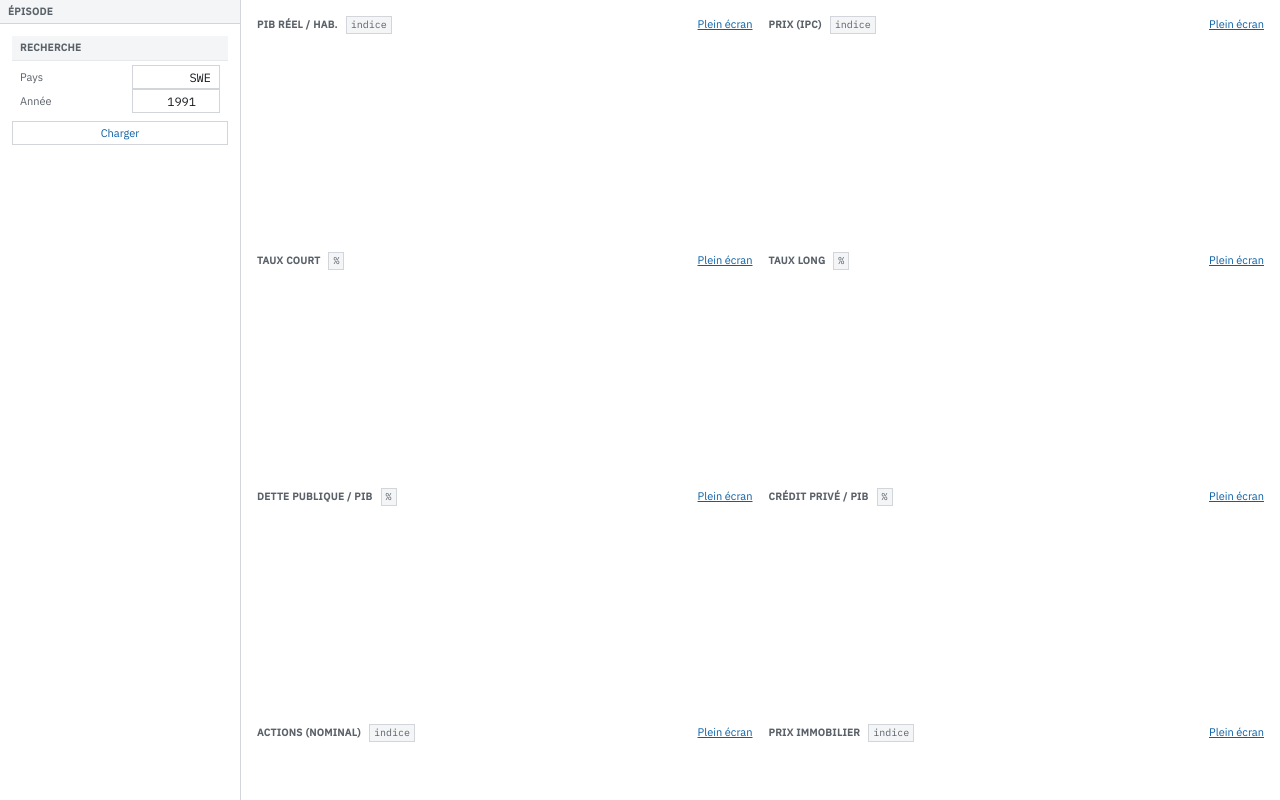
Test: page Épisode : plein écran › « Plein écran » ouvre le graphique dans une boîte de dialogue que Échap ferme
Click the button "Plein écran" in the row of "PIB réel / hab.": (725, 24) [698,17,752,31]
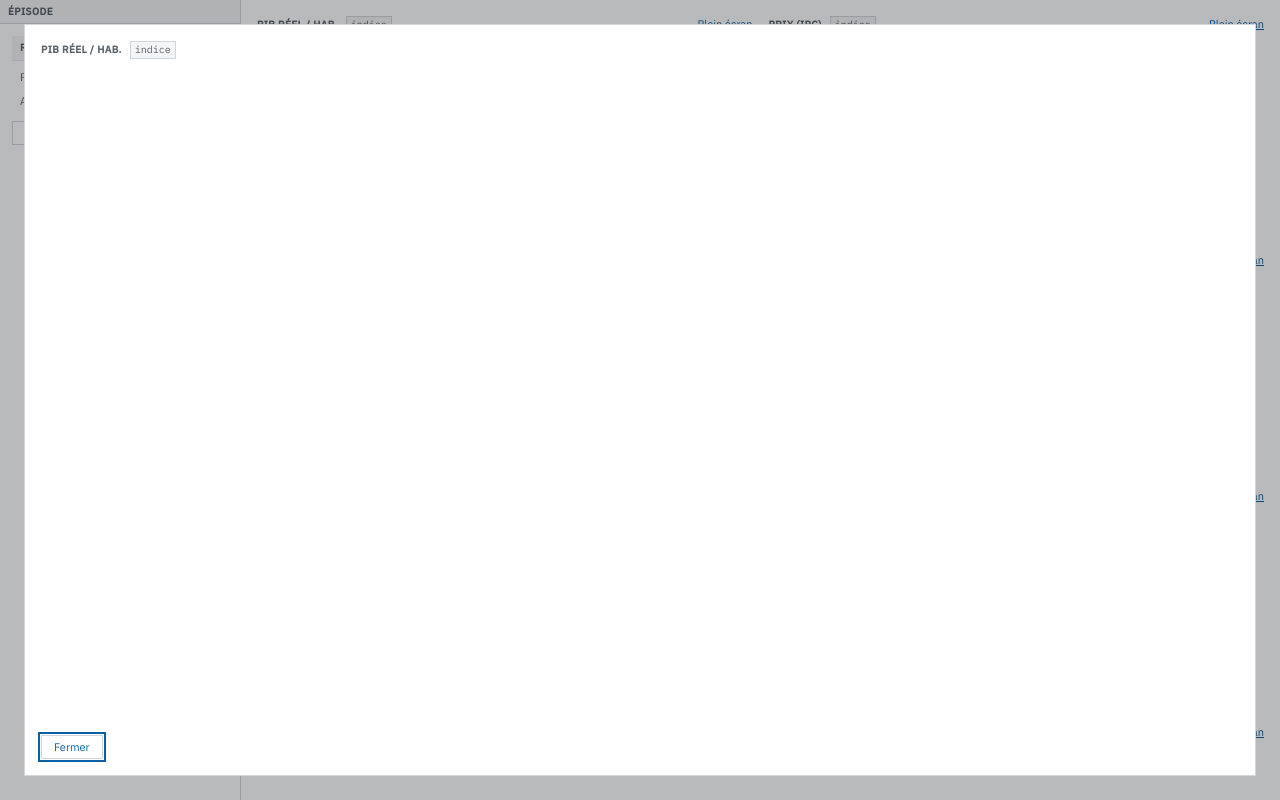
Expected: the dialog is shown
Press Escape
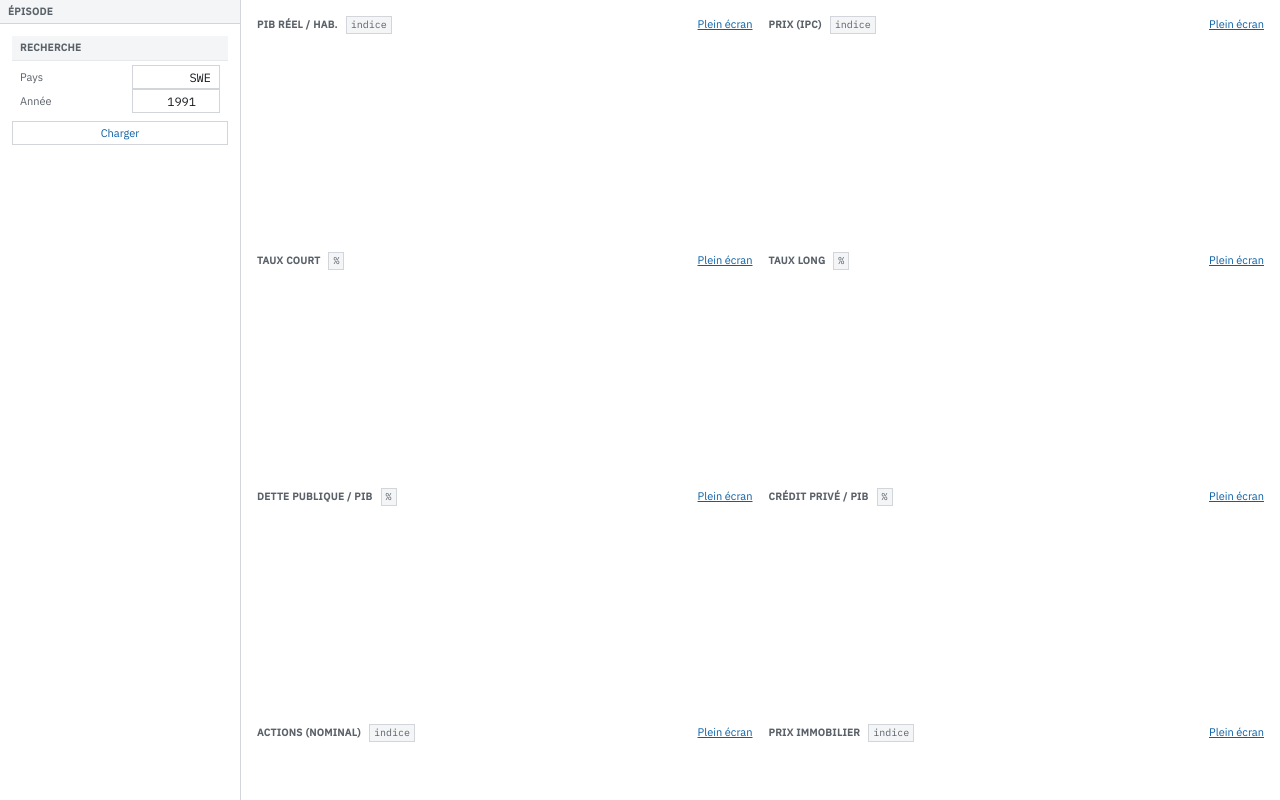
Expected: the dialog is gone
